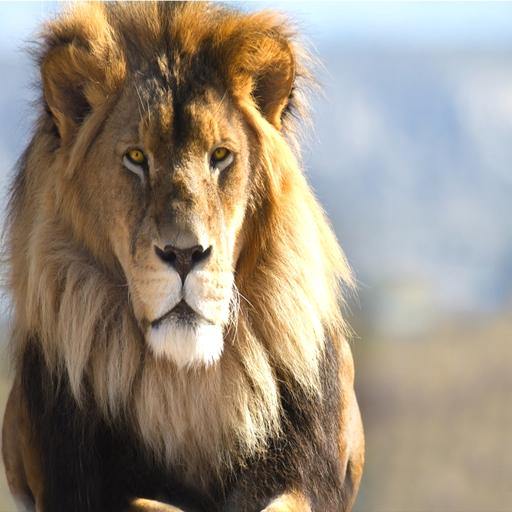lions: (16, 5, 476, 512)
